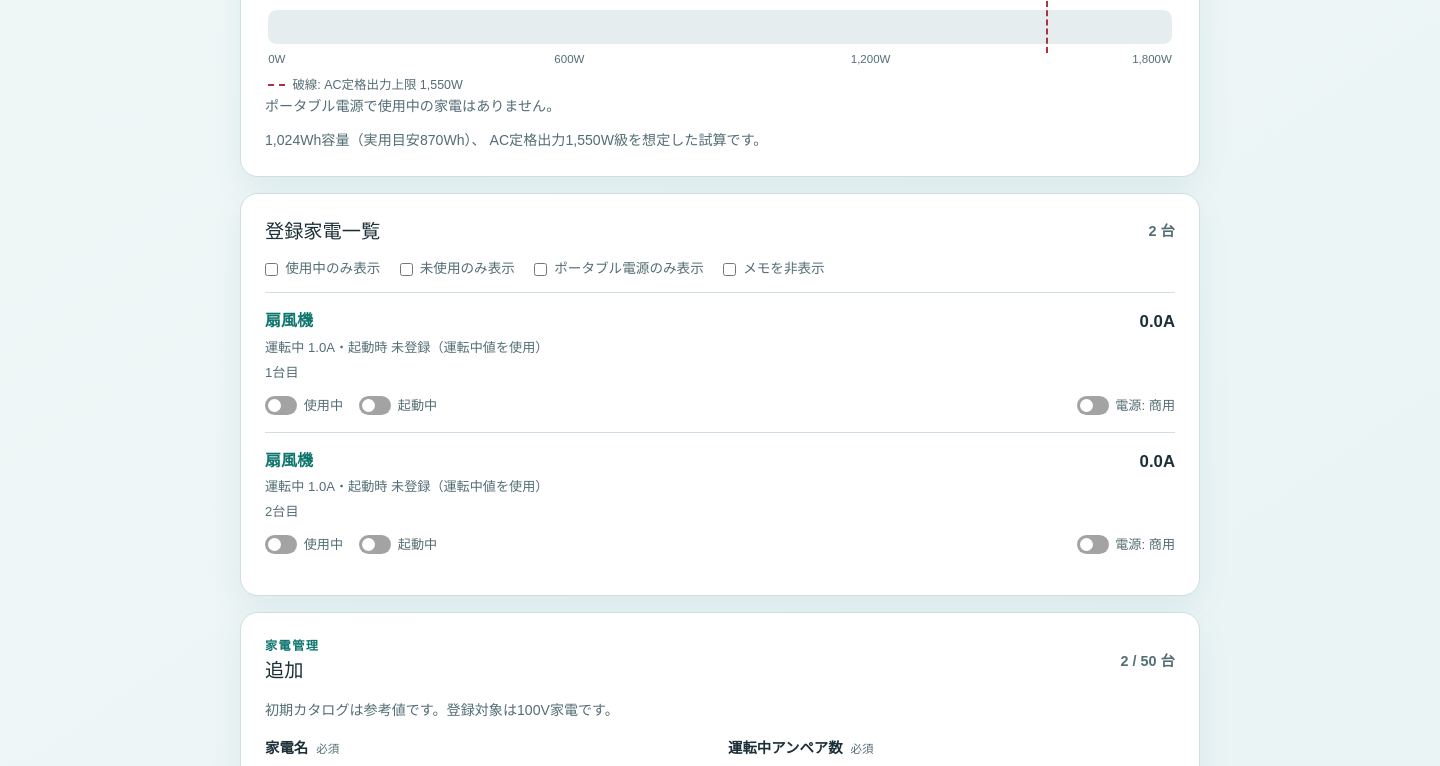
Test: Home › keeps the enabled state of appliances with the same name independent
(page scrolled)
Check: the heading "登録家電一覧" is shown, box x1=265 y1=218 x2=380 y2=246
Click the switch named "扇風機を集計に含める" at (304, 406), box x1=265 y1=396 x2=343 y2=416
(page scrolled)
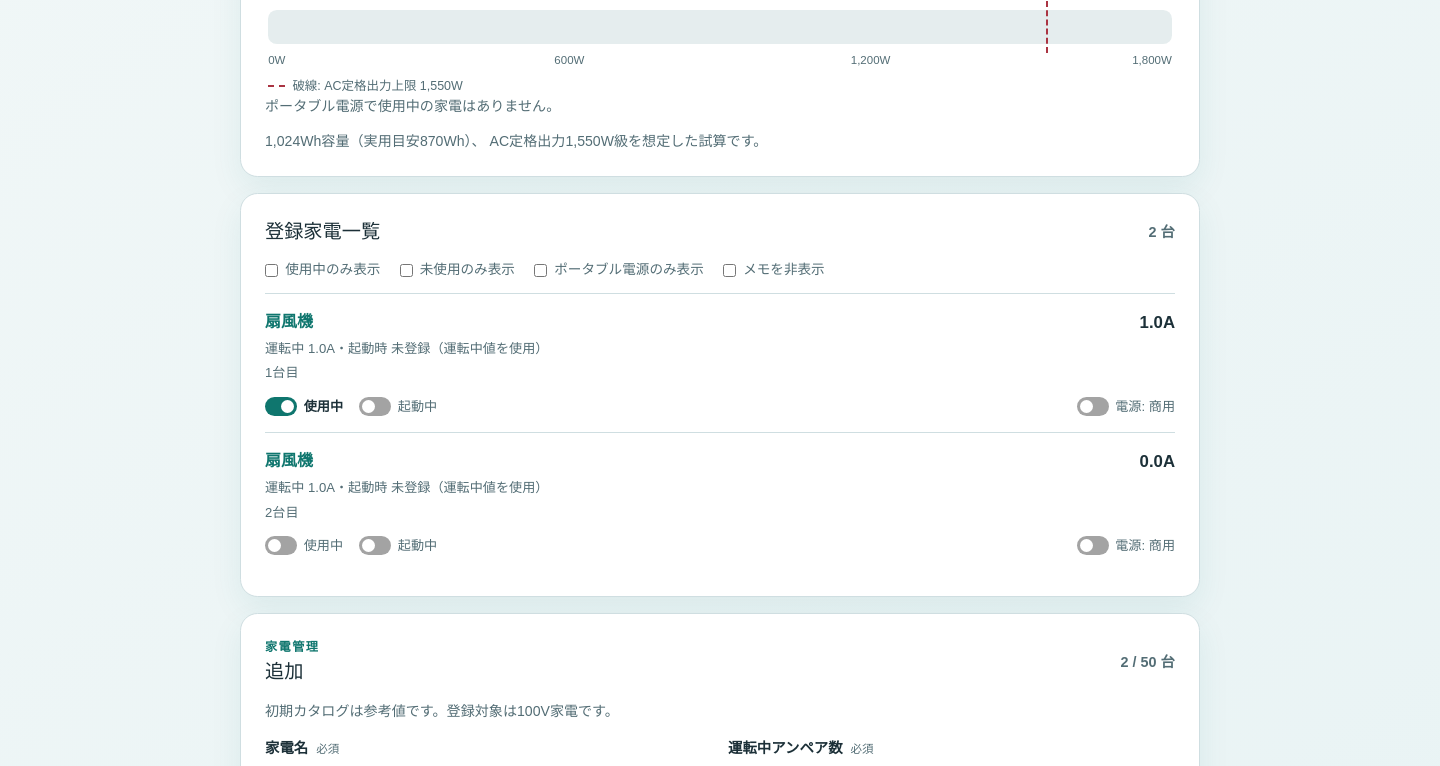
Click the switch named "扇風機を集計に含める" at (304, 546), box x1=265 y1=536 x2=343 y2=556
(page scrolled)
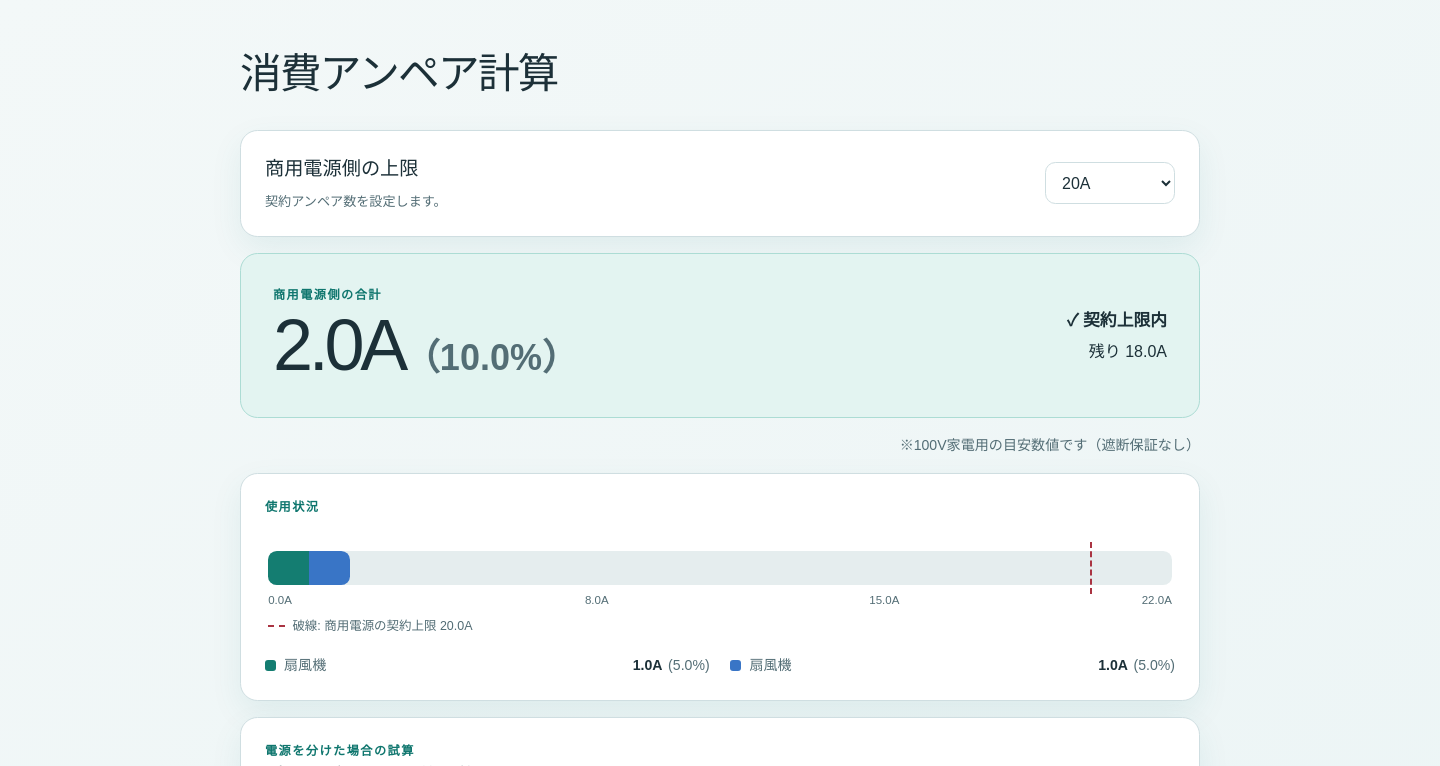
Check: the heading "2.0A" is shown, box x1=273 y1=309 x2=404 y2=381
